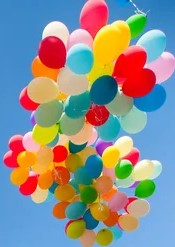Balloon: (121, 69, 156, 98), (38, 36, 67, 70), (115, 46, 147, 75), (27, 77, 62, 103), (80, 1, 107, 34), (138, 30, 166, 60), (67, 44, 94, 74), (95, 26, 122, 55), (121, 105, 148, 134), (91, 75, 117, 104), (37, 100, 63, 126), (65, 94, 90, 118), (98, 116, 121, 141), (127, 13, 149, 37), (134, 159, 156, 180), (88, 201, 111, 221), (127, 198, 151, 217), (36, 126, 58, 145), (86, 155, 103, 178), (102, 145, 119, 168), (65, 200, 85, 219), (115, 135, 133, 156), (109, 191, 127, 211), (67, 220, 86, 238), (55, 184, 75, 201), (135, 180, 155, 197), (119, 215, 139, 231), (8, 134, 25, 152), (20, 176, 37, 194), (52, 166, 69, 184), (22, 132, 38, 151), (11, 168, 28, 185), (97, 229, 113, 246), (53, 146, 68, 163), (3, 152, 20, 167)
